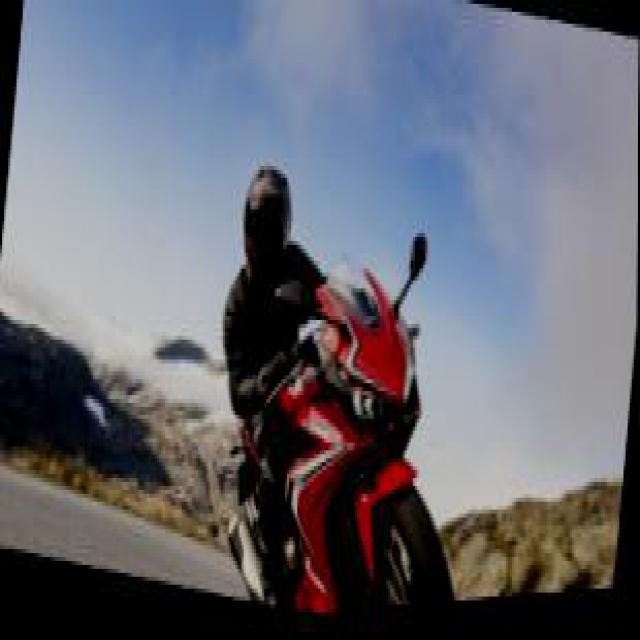CBR500R: (223, 223, 498, 622)
